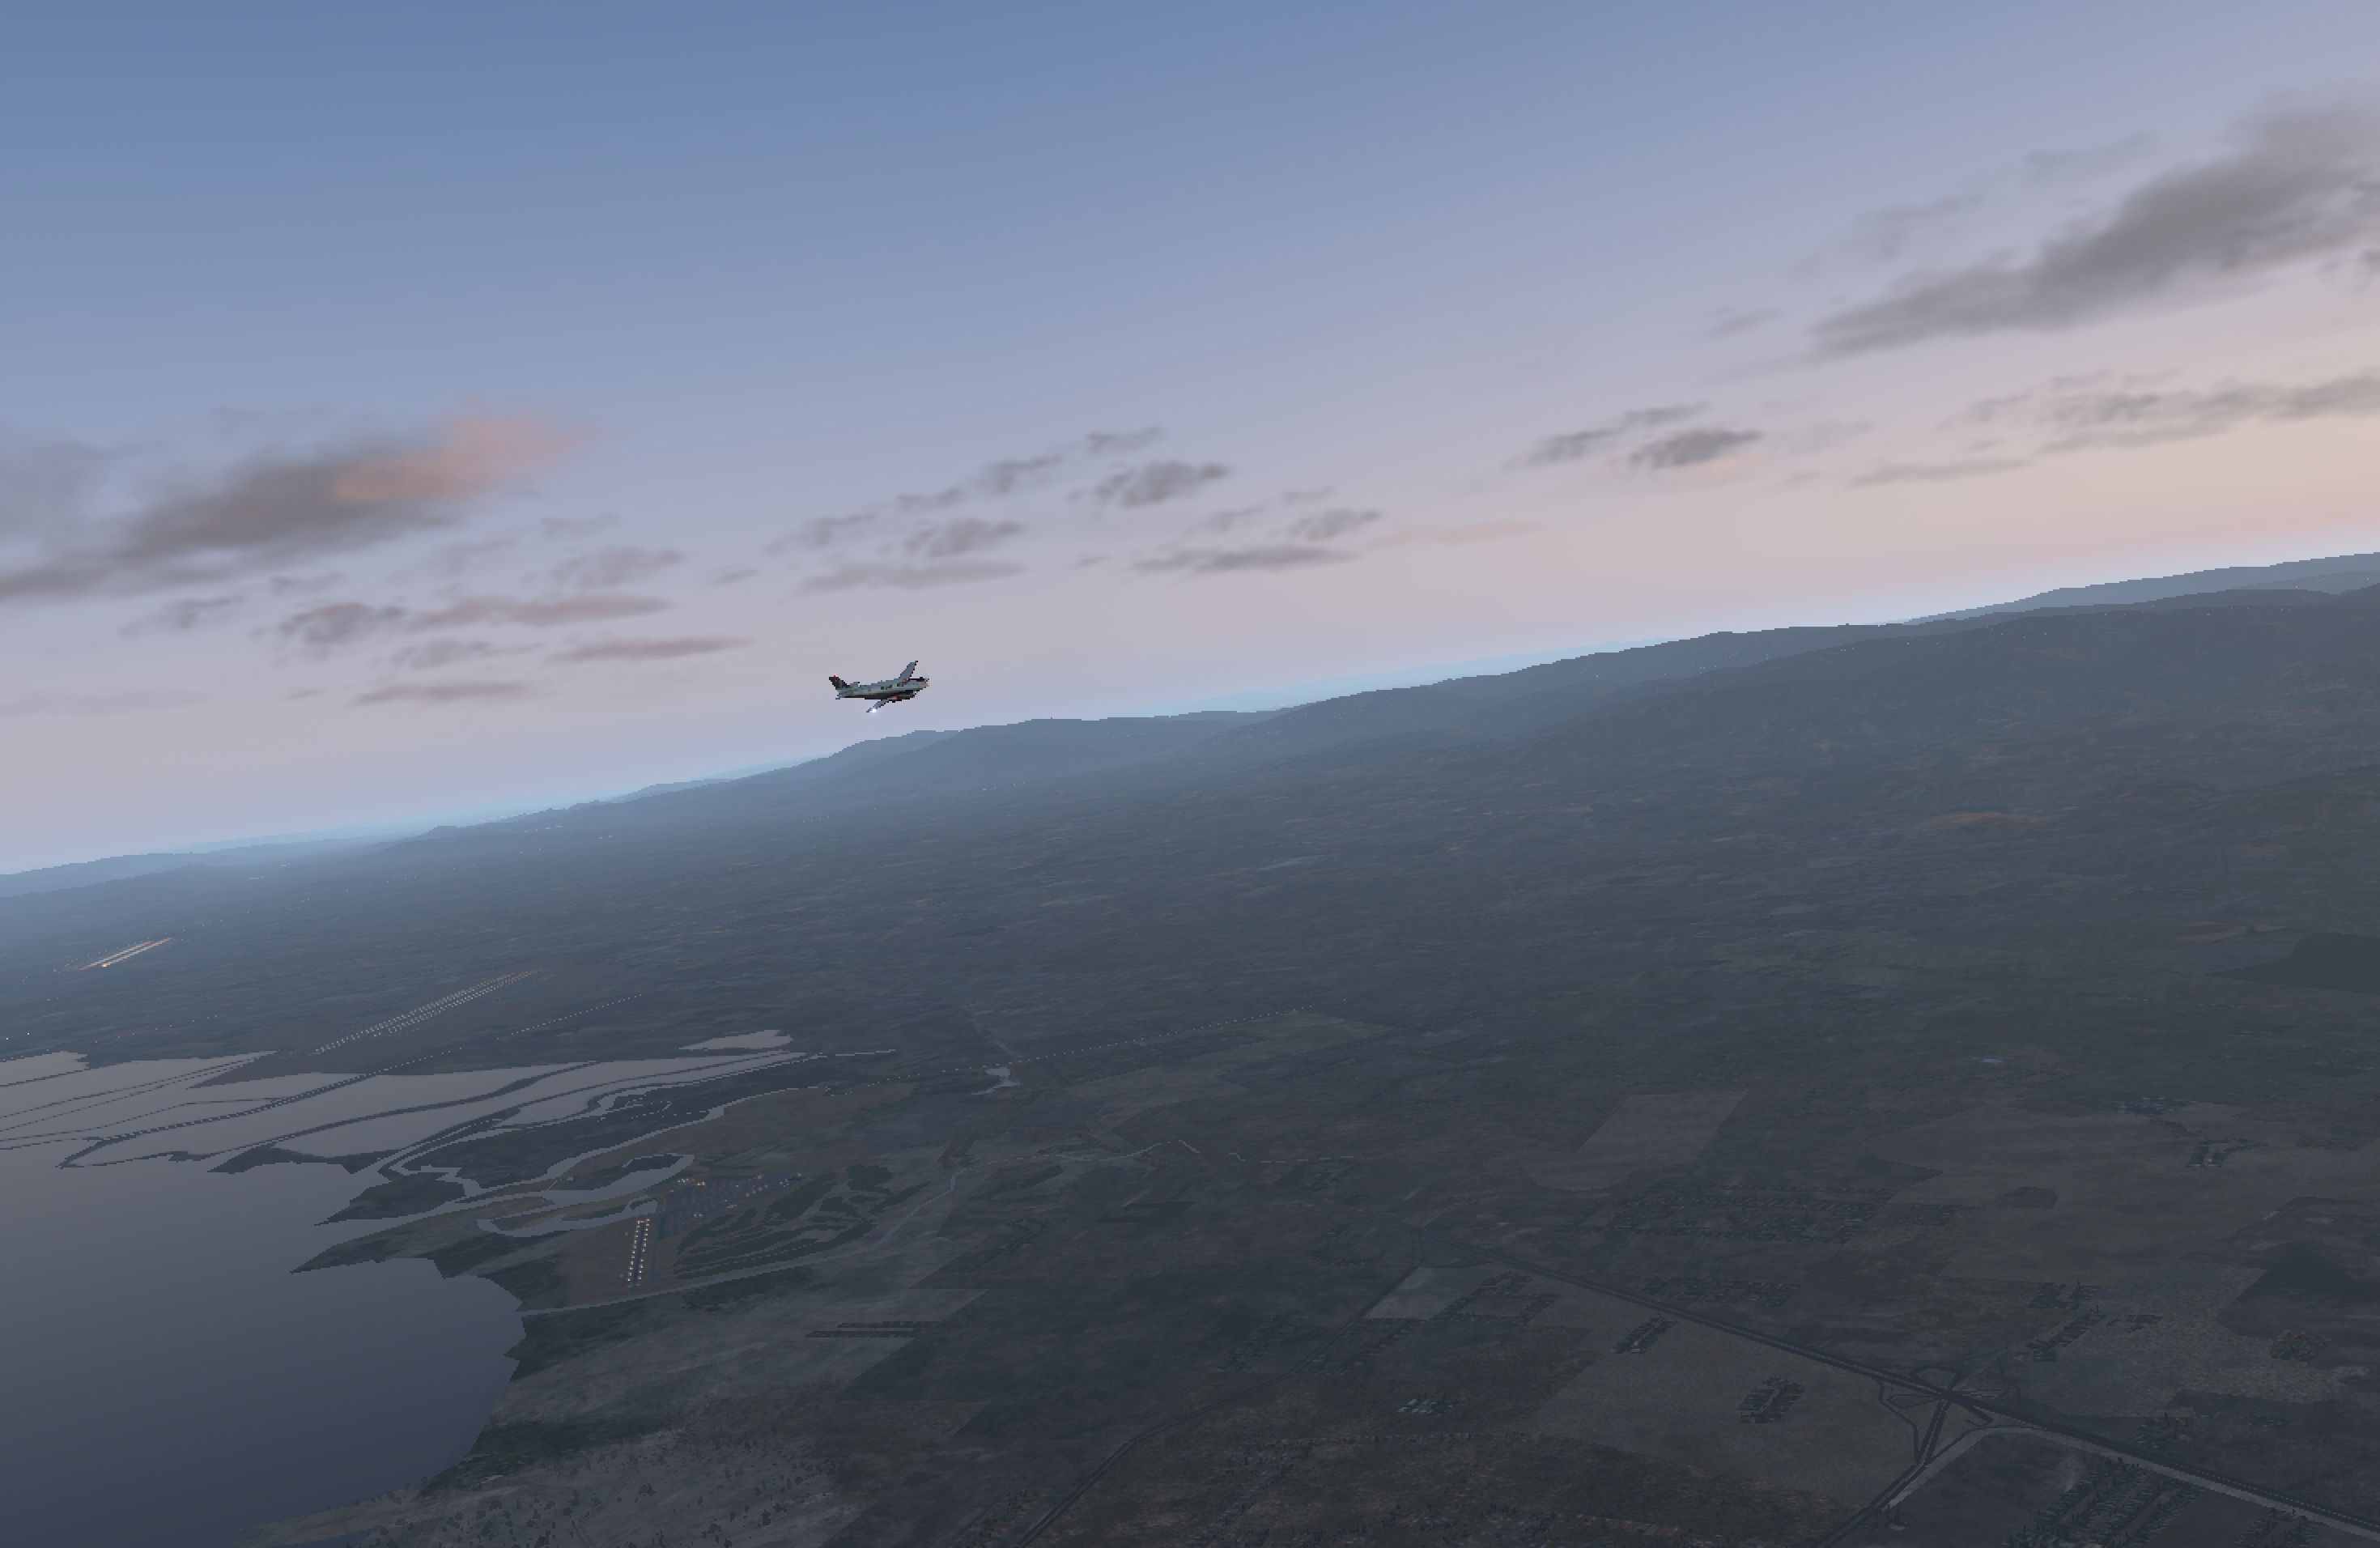aircraft: (827, 666, 973, 720)
